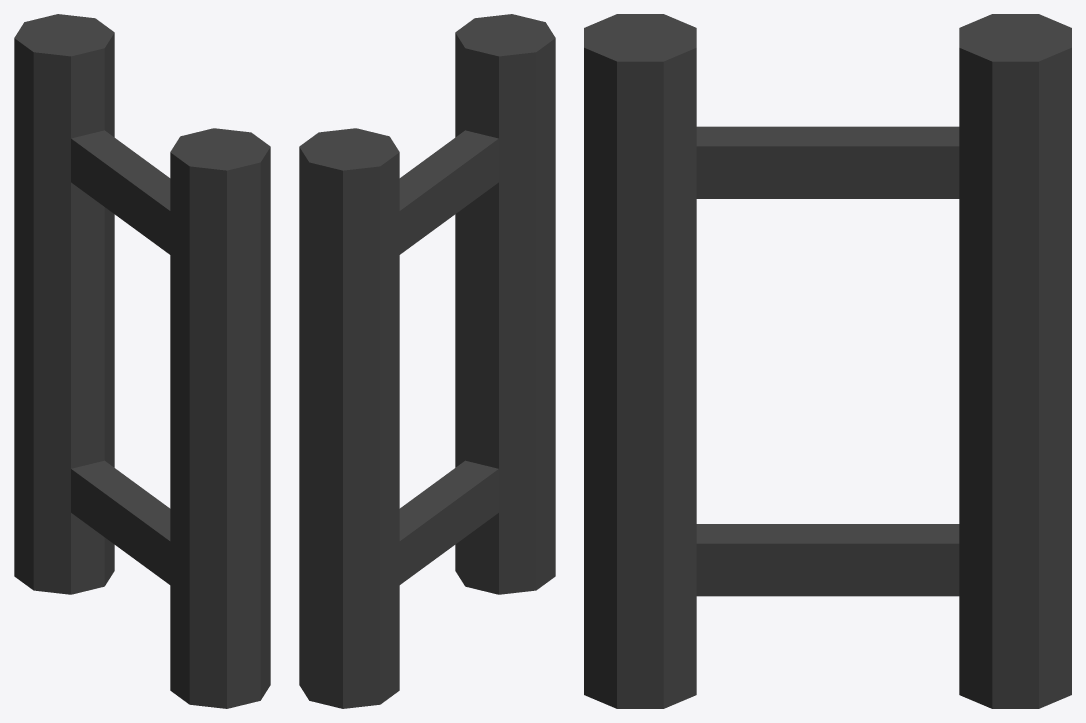
File: Shower1_C2_02.fbx
3 views of the same model, side by side, from view 1: azimuth 30°, elevation 25°; view 2: azimuth 150°, elevation 25°; view 3: azimuth 270°, elevation 25° (orthographic). The views are drawn at different scales.
Visible parts, largest first — view 1: Shower1_C2_02; view 2: Shower1_C2_02; view 3: Shower1_C2_02.
Part boxes in pixels (x1,y1,x2,y2): Shower1_C2_02: [14, 14, 270, 708]; Shower1_C2_02: [299, 14, 555, 708]; Shower1_C2_02: [584, 14, 1071, 708].
Size of the model in its own units: 3.26 by 20.66 by 14.11.
